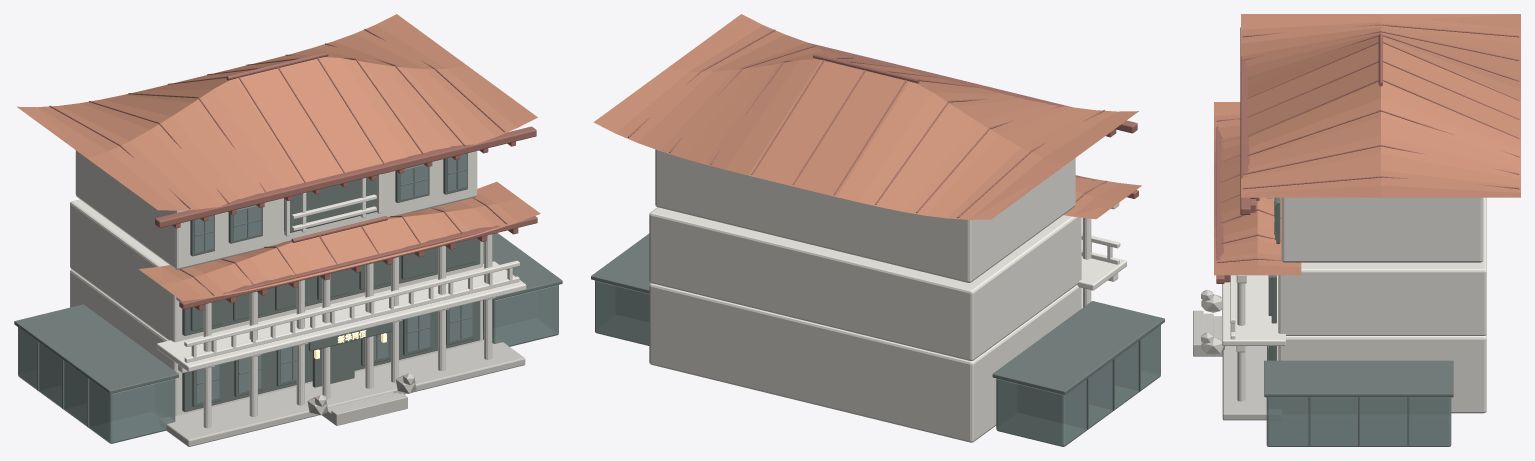
File: film-art-center-identity.glb
3 views of the same model, side by side, from view 1: azimuth 30°, elevation 25°; view 2: azimuth 150°, elevation 25°; view 3: azimuth 270°, elevation 25° (orthographic). The views are drawn at different scales.
Visible parts, largest first — view 1: film-art-center-identity; view 2: film-art-center-identity; view 3: film-art-center-identity.
Part boxes in pixels (x1=…): film-art-center-identity: x1=14, y1=14, x2=562, y2=446; film-art-center-identity: x1=591, y1=14, x2=1164, y2=446; film-art-center-identity: x1=1193, y1=14, x2=1520, y2=446.
Size of the model in its own units: 23.11 by 13.84 by 14.63.
